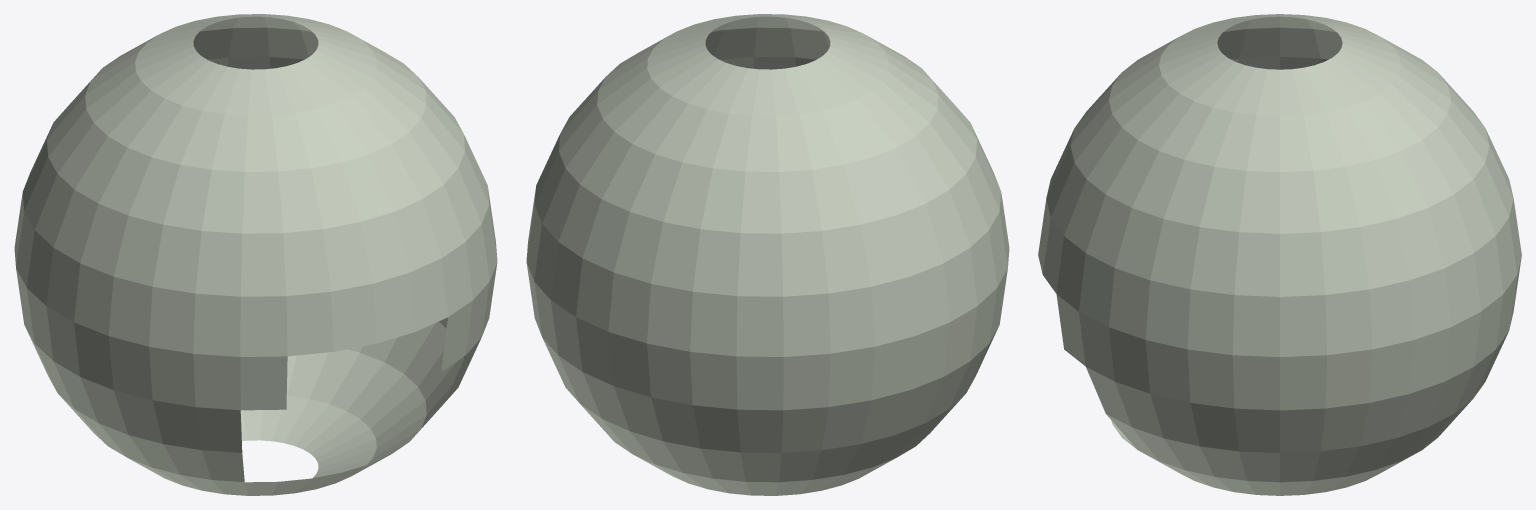
File: SM_MP_Empty_Spherical_Liner.fbx
3 views of the same model, side by side, from view 1: azimuth 30°, elevation 25°; view 2: azimuth 150°, elevation 25°; view 3: azimuth 270°, elevation 25° (orthographic).
Parts seen in each view (by area): view 1: SM_MP_Empty_Spherical_Liner; view 2: SM_MP_Empty_Spherical_Liner; view 3: SM_MP_Empty_Spherical_Liner.
Boxes of the visible parts, x1,y1,x2,y2 form: SM_MP_Empty_Spherical_Liner: [14, 14, 497, 495]; SM_MP_Empty_Spherical_Liner: [526, 14, 1009, 495]; SM_MP_Empty_Spherical_Liner: [1038, 14, 1521, 495].
Size of the model in its own units: 800 by 800 by 773.
Materials: 1 (1 with a texture image).
